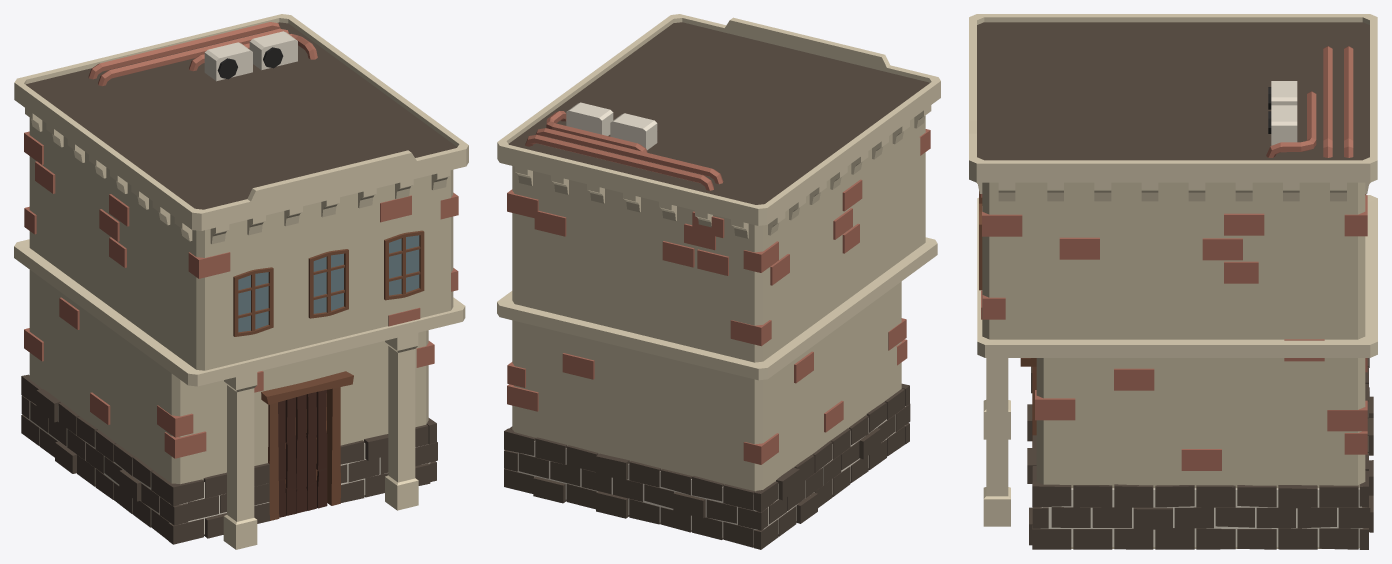
The model's file is cairo-block-colonnade.glb.
The picture shows the model from 3 angles, left to right: view 1: azimuth 30°, elevation 25°; view 2: azimuth 150°, elevation 25°; view 3: azimuth 270°, elevation 25°; orthographic projection. The views are drawn at different scales.
Size of the model in its own units: 2.16 by 2.77 by 2.49.
